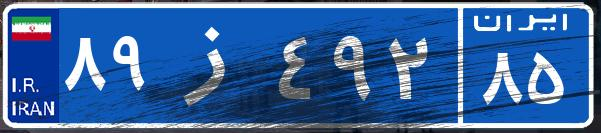2: (385, 28, 445, 110)
4: (273, 28, 330, 110)
5: (525, 38, 570, 115)
8: (57, 26, 110, 107), (475, 38, 525, 113)
9: (330, 28, 385, 110), (110, 28, 158, 105)
ز: (158, 15, 273, 115)
